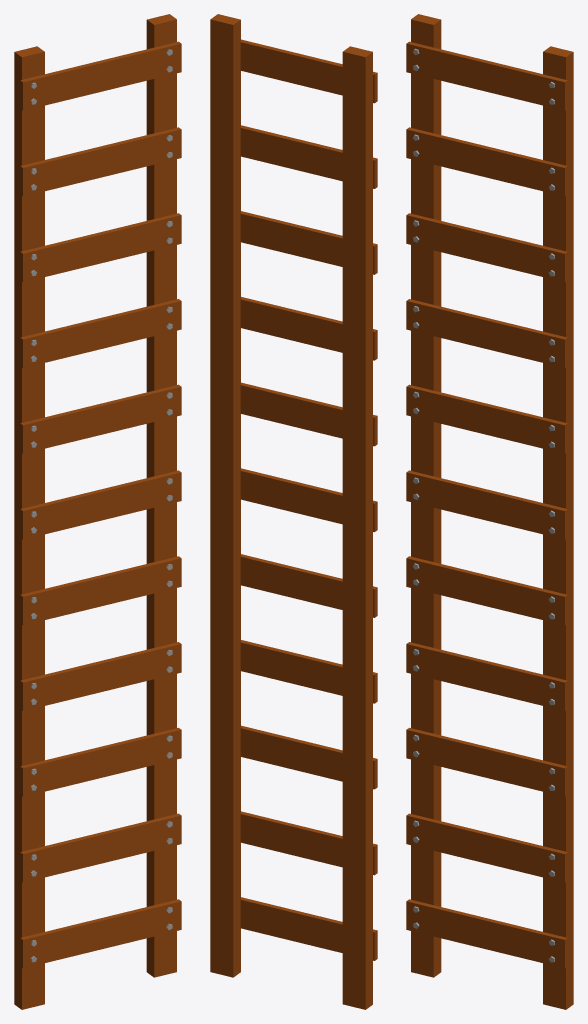
File: Ladder.fbx
The picture shows the model from 3 angles, left to right: view 1: azimuth 30°, elevation 25°; view 2: azimuth 150°, elevation 25°; view 3: azimuth 330°, elevation 25°; orthographic projection.
Parts seen in each view (by area): view 1: Ladder; view 2: Ladder; view 3: Ladder.
Boxes of the visible parts, x1,y1,x2,y2 form: Ladder: (14, 14, 181, 1009); Ladder: (210, 14, 377, 1009); Ladder: (406, 14, 573, 1009).
Bounding box in the file's own units: 200 × 1149 × 24.72.
